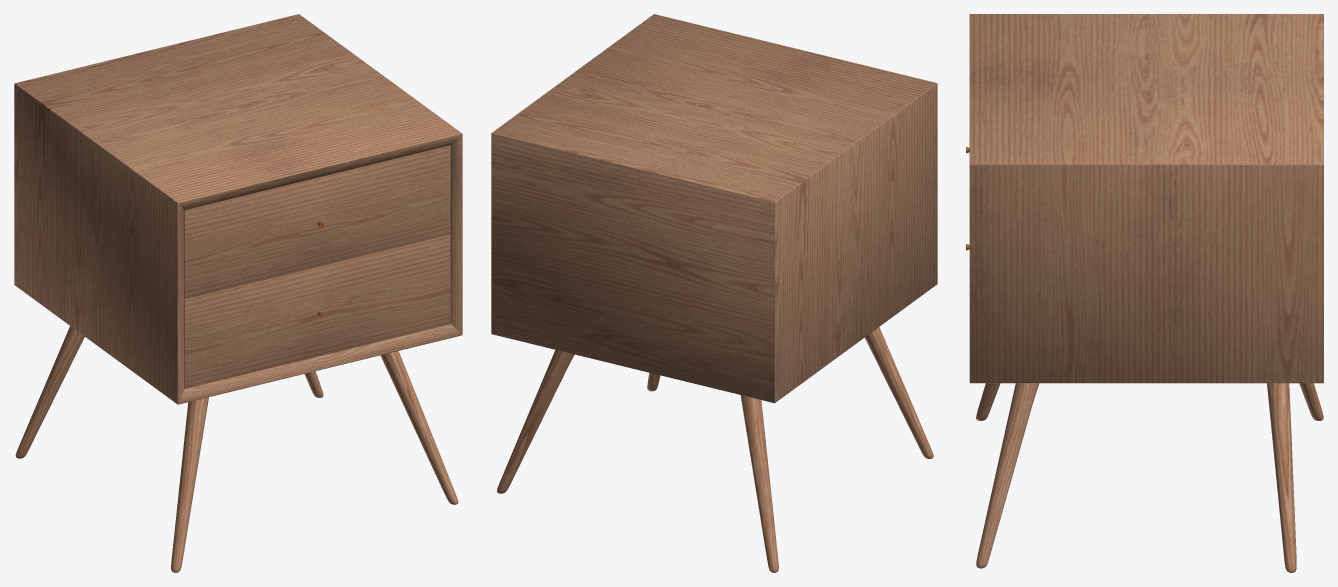
Rendered from bedside_table.gltf.
3 renders of one model, left to right at view 1: azimuth 30°, elevation 25°; view 2: azimuth 150°, elevation 25°; view 3: azimuth 270°, elevation 25°, orthographic. The views are drawn at different scales.
Parts seen in each view (by area): view 1: bedside_table; view 2: bedside_table; view 3: bedside_table.
Part boxes in pixels (bbox=[...]): bedside_table: bbox=[14, 14, 462, 572]; bedside_table: bbox=[491, 14, 937, 572]; bedside_table: bbox=[966, 14, 1323, 572].
Size of the model in its own units: 0.4115 by 0.5 by 0.4.
1 material, 1 textured.
